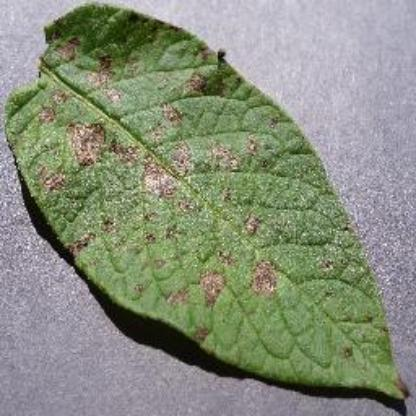Early-Blight: (7, 1, 415, 406)
